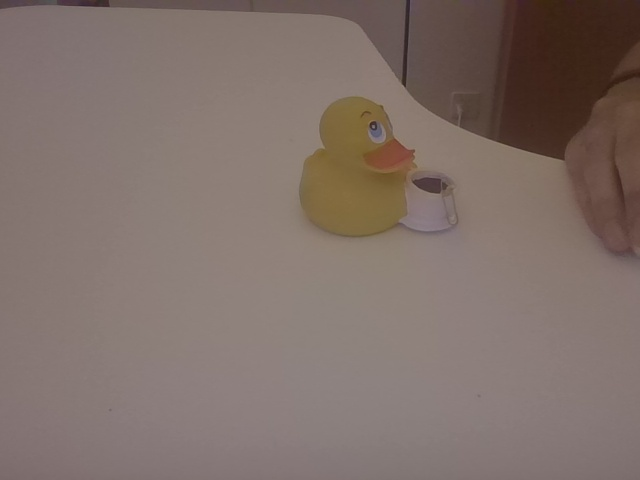duck: (289, 91, 468, 253)
